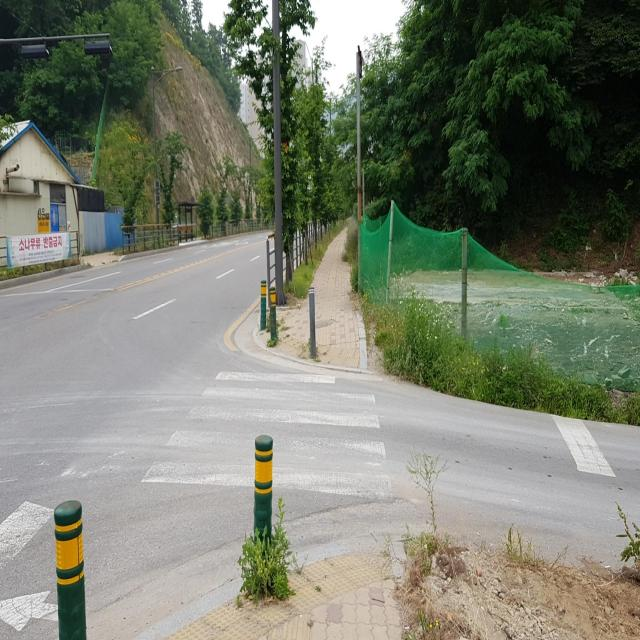횡단보도: (139, 368, 393, 503)
